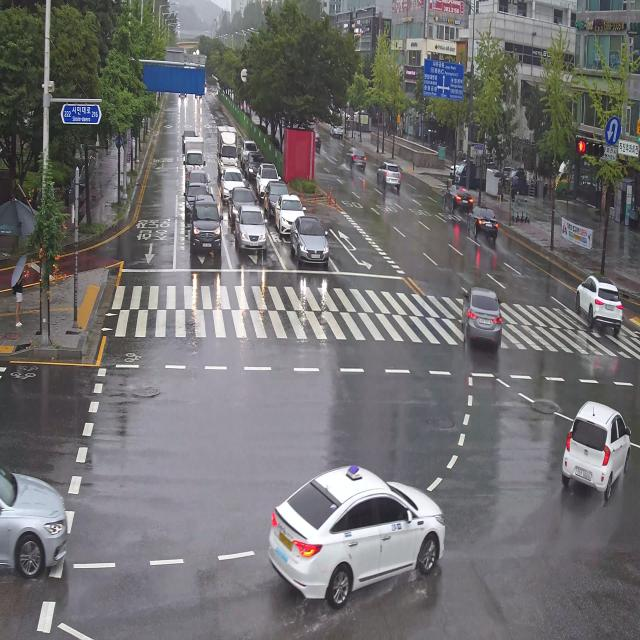Car: (267, 448, 467, 616), (542, 363, 640, 532), (571, 262, 632, 358), (459, 278, 514, 374), (284, 214, 335, 296), (191, 188, 227, 278), (235, 203, 284, 264), (370, 153, 414, 205), (465, 200, 506, 248), (274, 192, 309, 238), (227, 182, 259, 224), (442, 182, 473, 222), (264, 177, 292, 216), (219, 163, 248, 200), (346, 140, 373, 177), (256, 160, 279, 203), (186, 182, 208, 218), (246, 148, 265, 182), (187, 168, 208, 195), (240, 138, 258, 159), (330, 114, 344, 140), (181, 130, 200, 148), (311, 127, 323, 152)
Truck: (210, 120, 244, 184), (457, 151, 489, 194), (181, 136, 208, 185), (508, 165, 545, 200), (555, 156, 577, 201)
